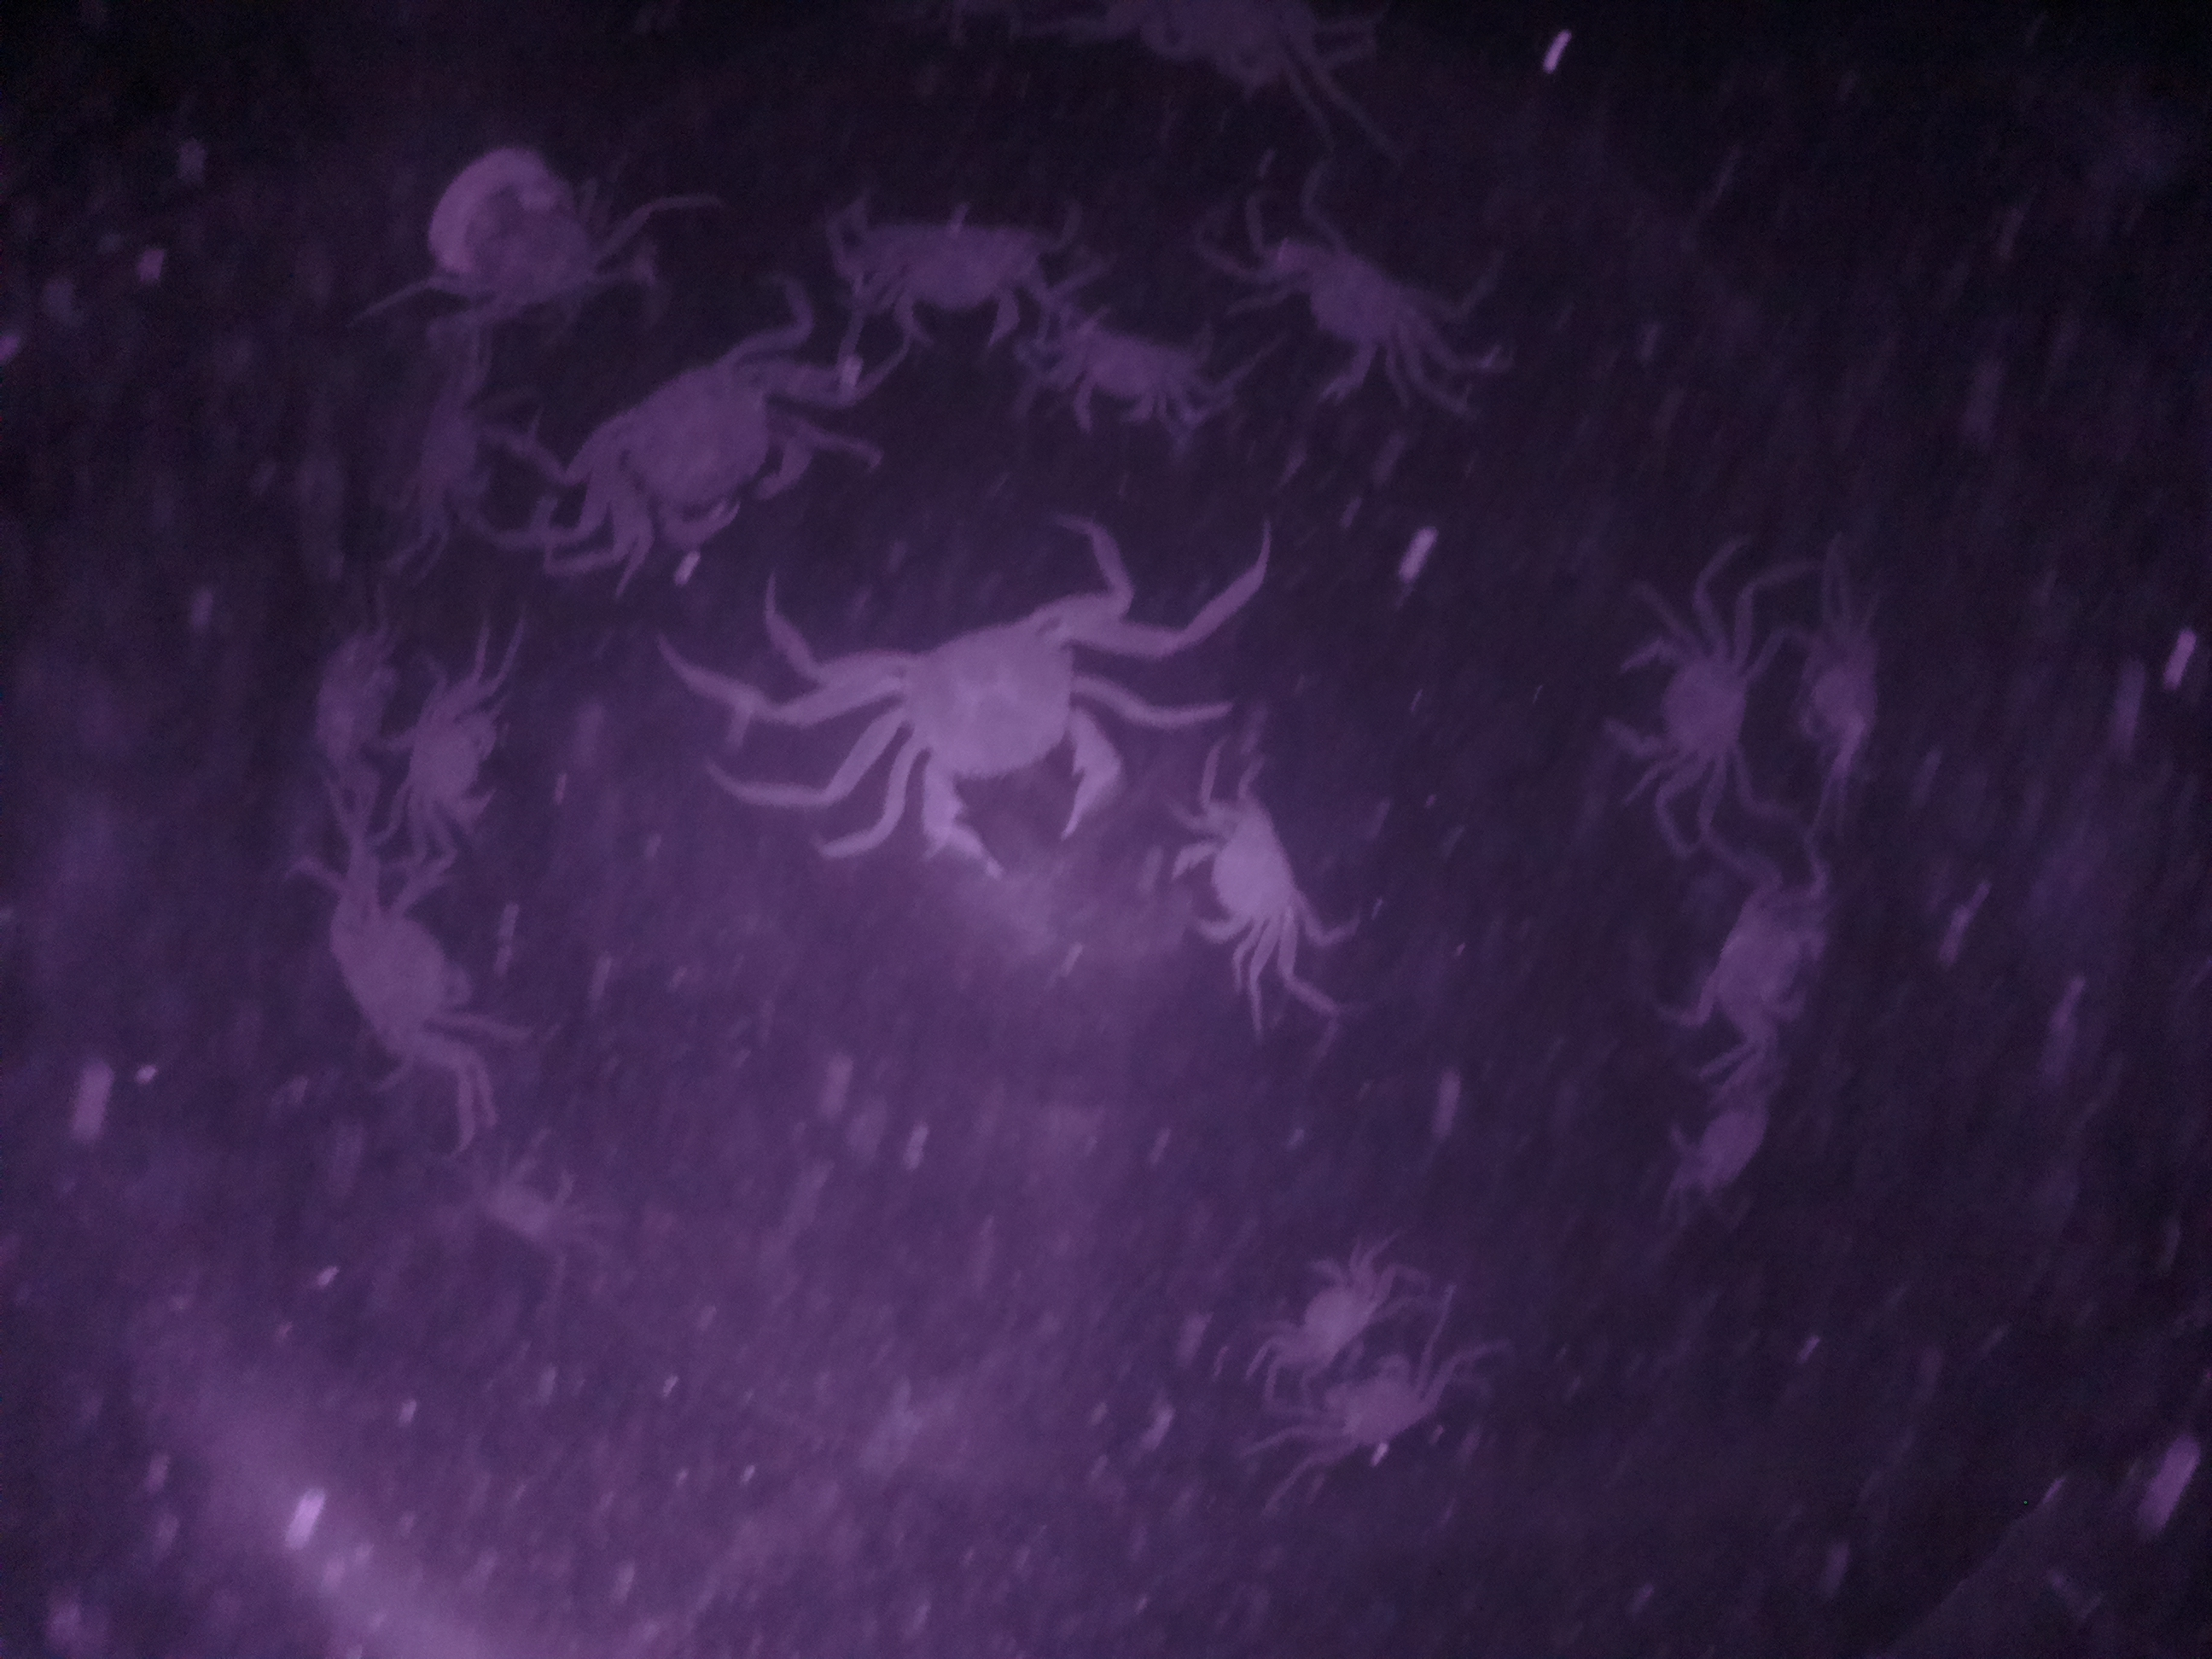Crab: (857, 577, 1143, 877), (580, 331, 833, 565), (1252, 223, 1463, 404), (319, 875, 493, 1087), (1583, 613, 1766, 793), (1162, 791, 1310, 957), (1026, 328, 1200, 443), (388, 685, 514, 840), (1254, 1251, 1390, 1387)
